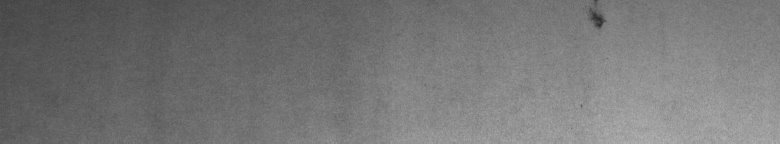fi: (583, 4, 611, 36)
